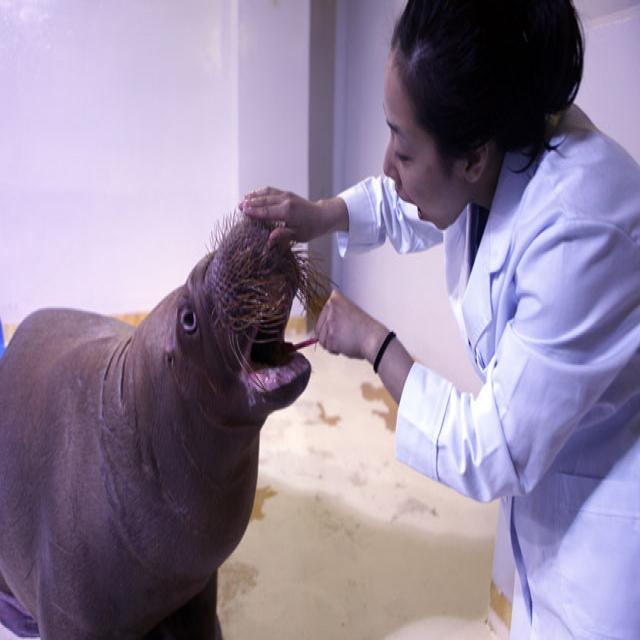walrus: (11, 202, 320, 636)
